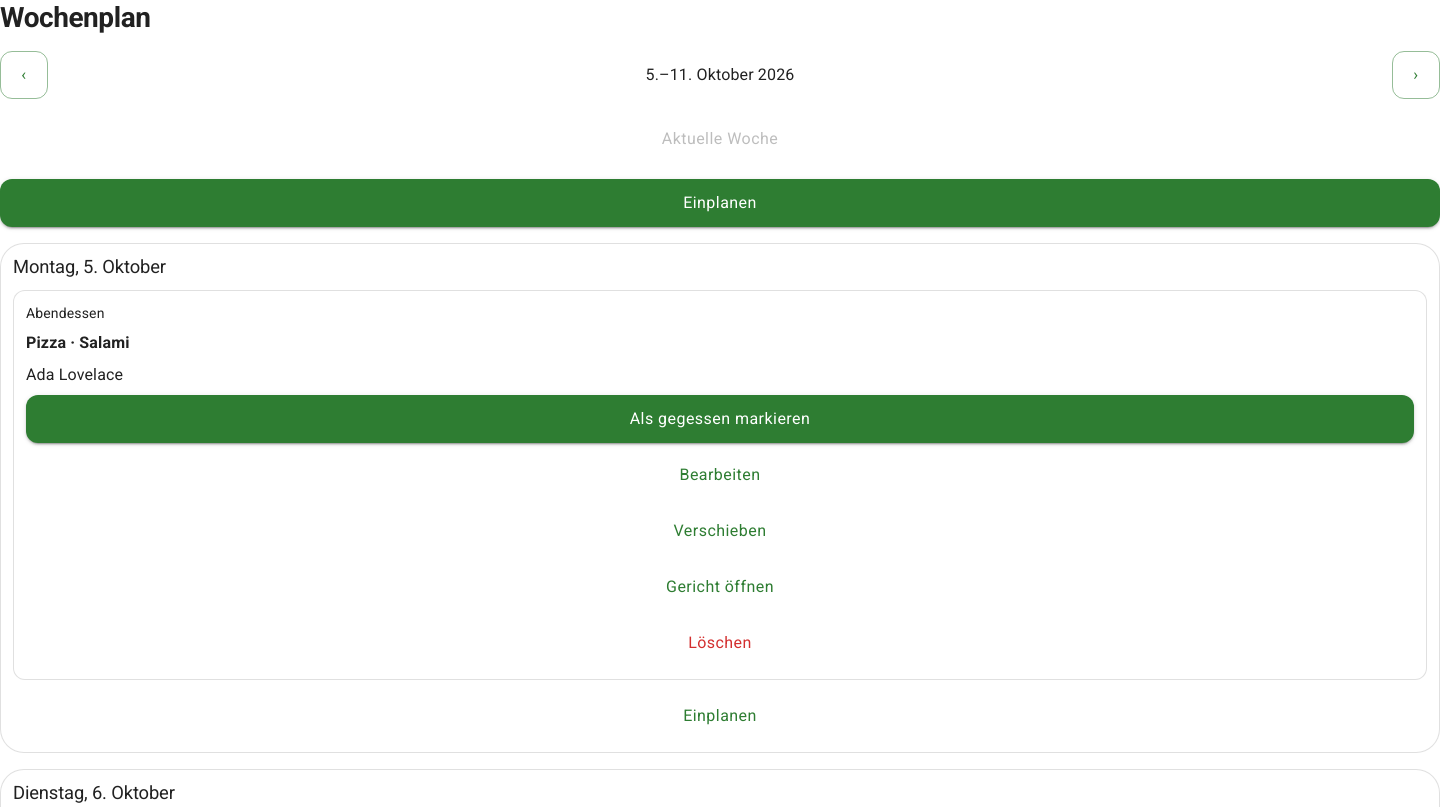
Test: bestätigt eine Planung als gegessen
Step 1. Click the button with test id "plan-eaten" → (720, 419), box left=26, top=395, right=1414, bottom=443
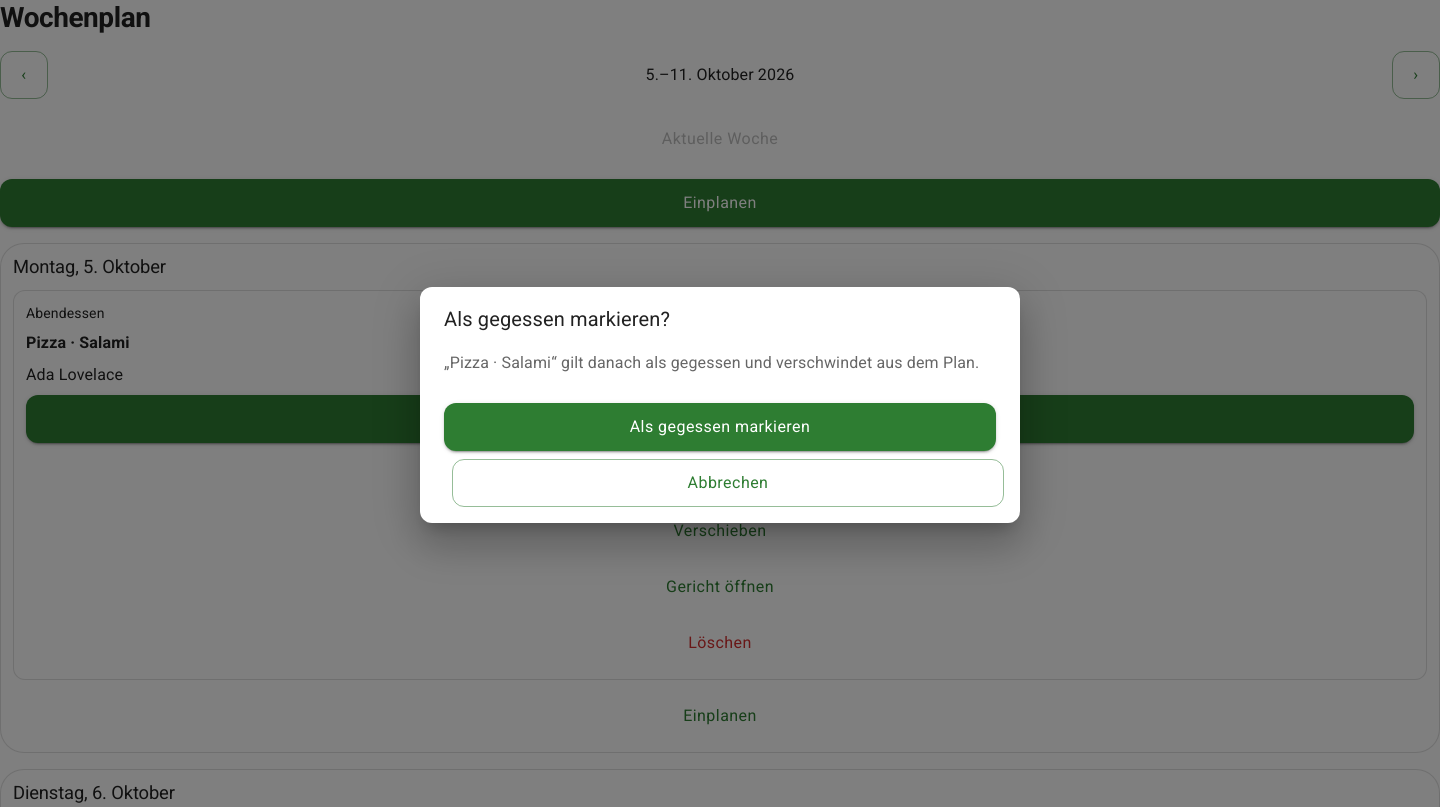
Step 2. Click the button with test id "confirm-eaten" → (720, 427), box left=444, top=403, right=996, bottom=451
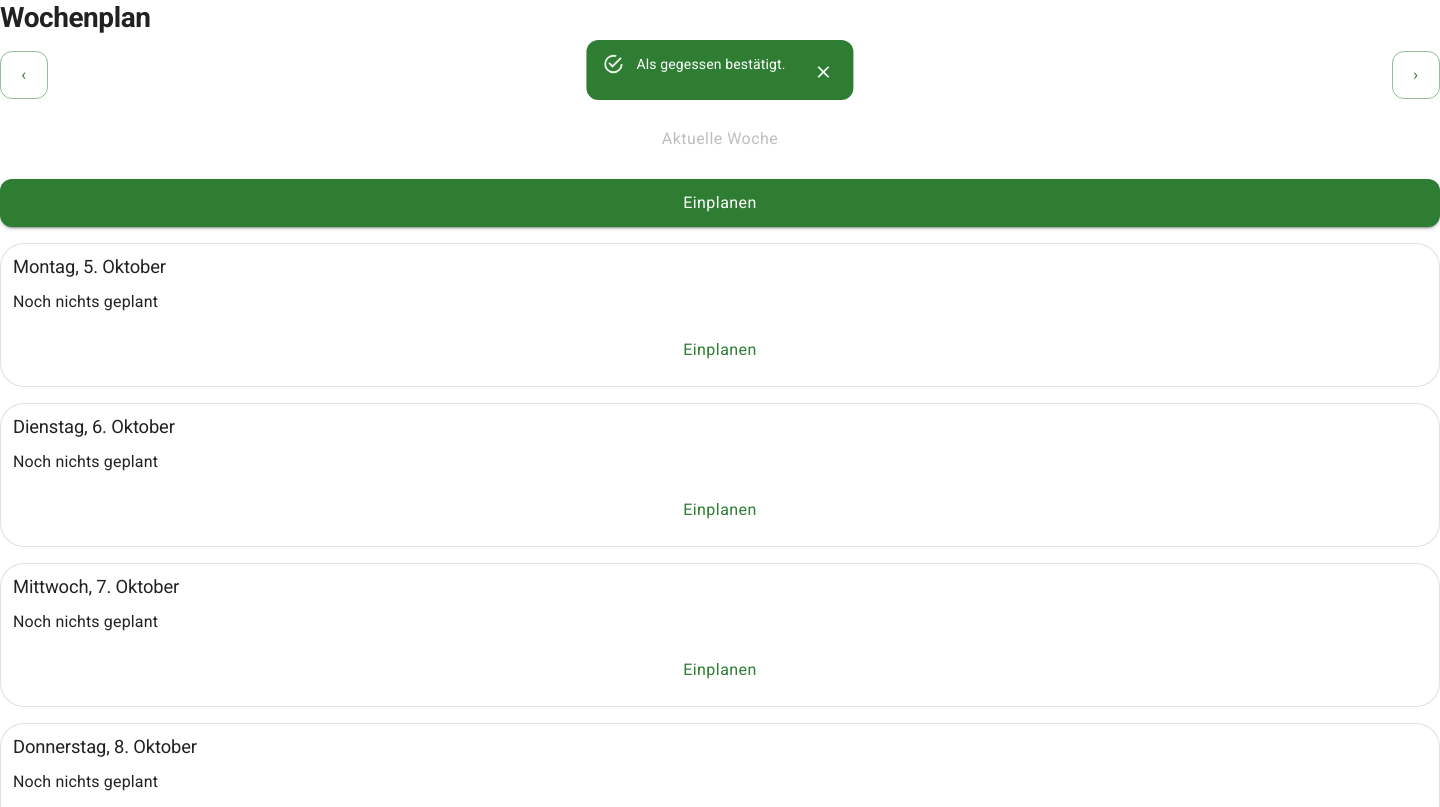
Expected: the element with test id "plan-entry" is gone
